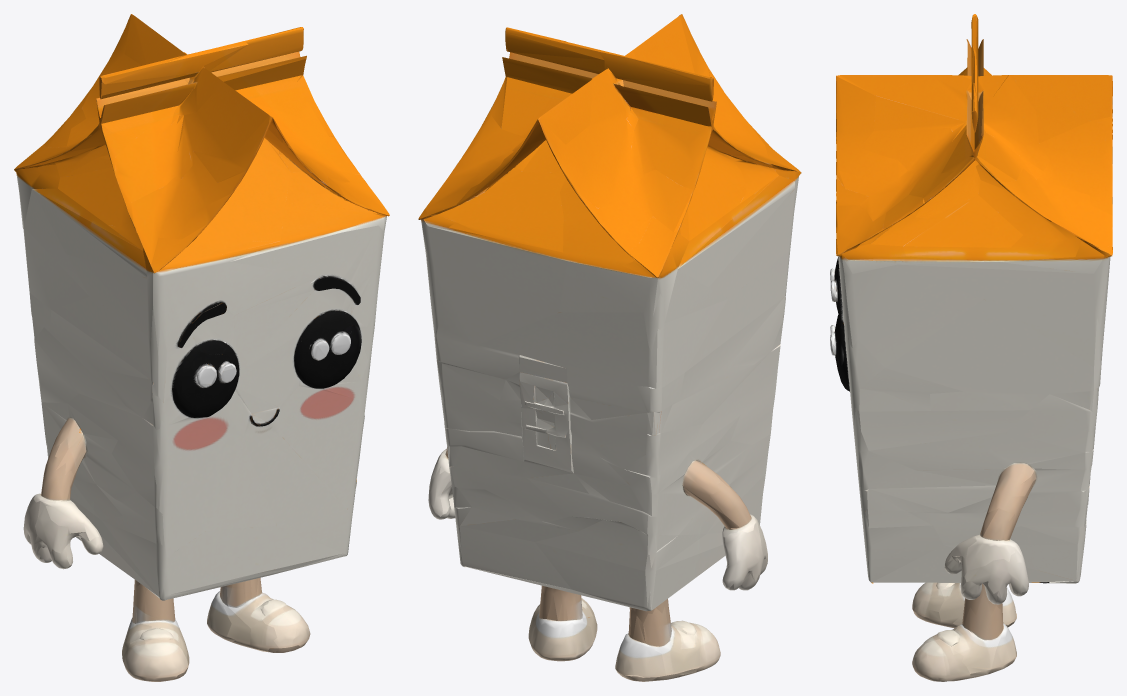
The model's file is PaperBit.fbx.
3 renders of one model, left to right at view 1: azimuth 30°, elevation 25°; view 2: azimuth 150°, elevation 25°; view 3: azimuth 270°, elevation 25°, orthographic. The views are drawn at different scales.
Parts seen in each view (by area): view 1: output_unwrapped; view 2: output_unwrapped; view 3: output_unwrapped.
Boxes of the visible parts, x1=… form: output_unwrapped: x1=14, y1=14, x2=389, y2=681; output_unwrapped: x1=418, y1=14, x2=801, y2=681; output_unwrapped: x1=830, y1=14, x2=1112, y2=681.
Size of the model in its own units: 55.91 by 100 by 44.11.
Materials: 1 (1 with a texture image).
